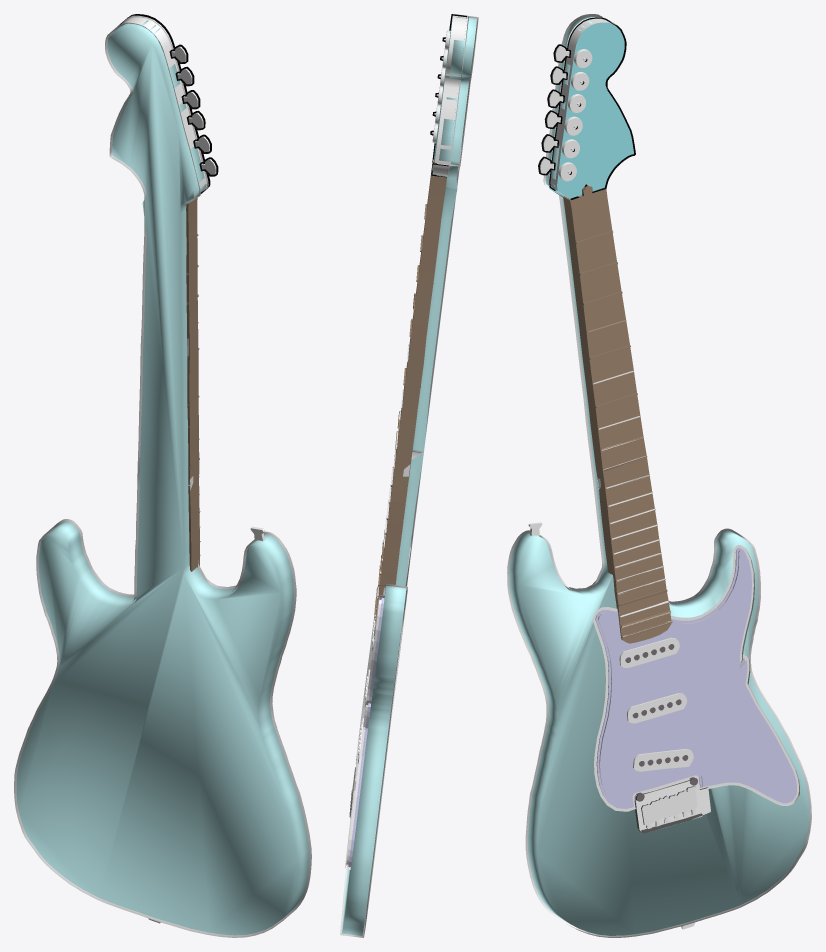
Rendered from GuitareV5.glb.
3 views of the same model, side by side, from view 1: azimuth 30°, elevation 25°; view 2: azimuth 150°, elevation 25°; view 3: azimuth 270°, elevation 25° (orthographic). The views are drawn at different scales.
Visible parts, largest first — view 1: GuitareV3; view 2: GuitareV3; view 3: GuitareV3.
Part boxes in pixels (x1,y1,x2,y2): GuitareV3: [14, 14, 311, 937]; GuitareV3: [340, 14, 478, 937]; GuitareV3: [507, 14, 811, 937].
Size of the model in its own units: 1.13 by 6.21 by 1.95.
